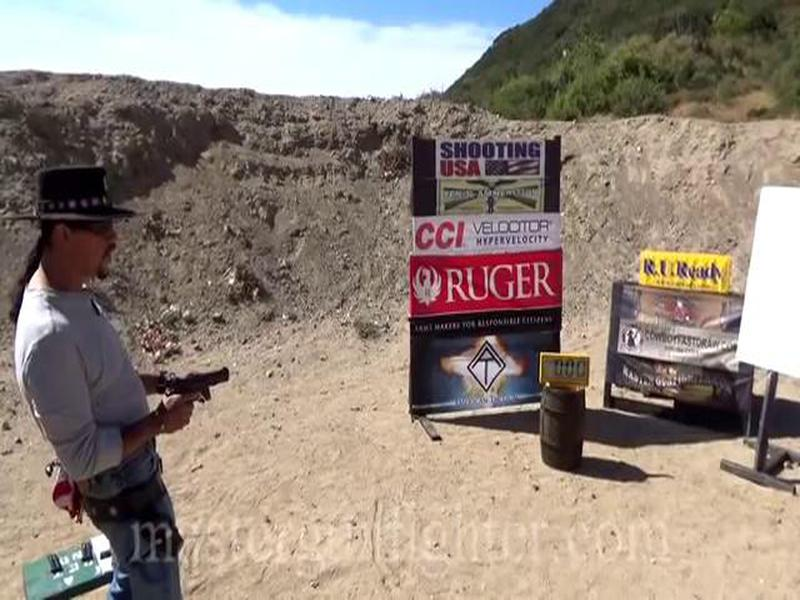Pistola: (164, 359, 244, 425)
